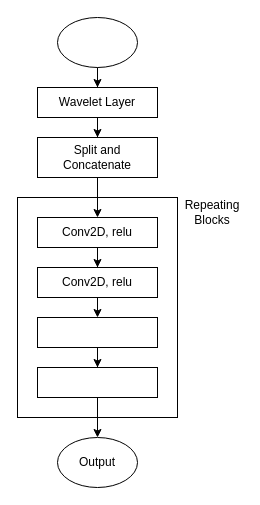
Some shapes in this 260 by 505 pixel diagram are drawn without their labels. Here are the shapes that lost their labels. From the top down, the centre of each, then its label:
At (x=97, y=42): "Input".
At (x=97, y=332): "Max Pooling".
At (x=97, y=382): "Batch Normalization".
